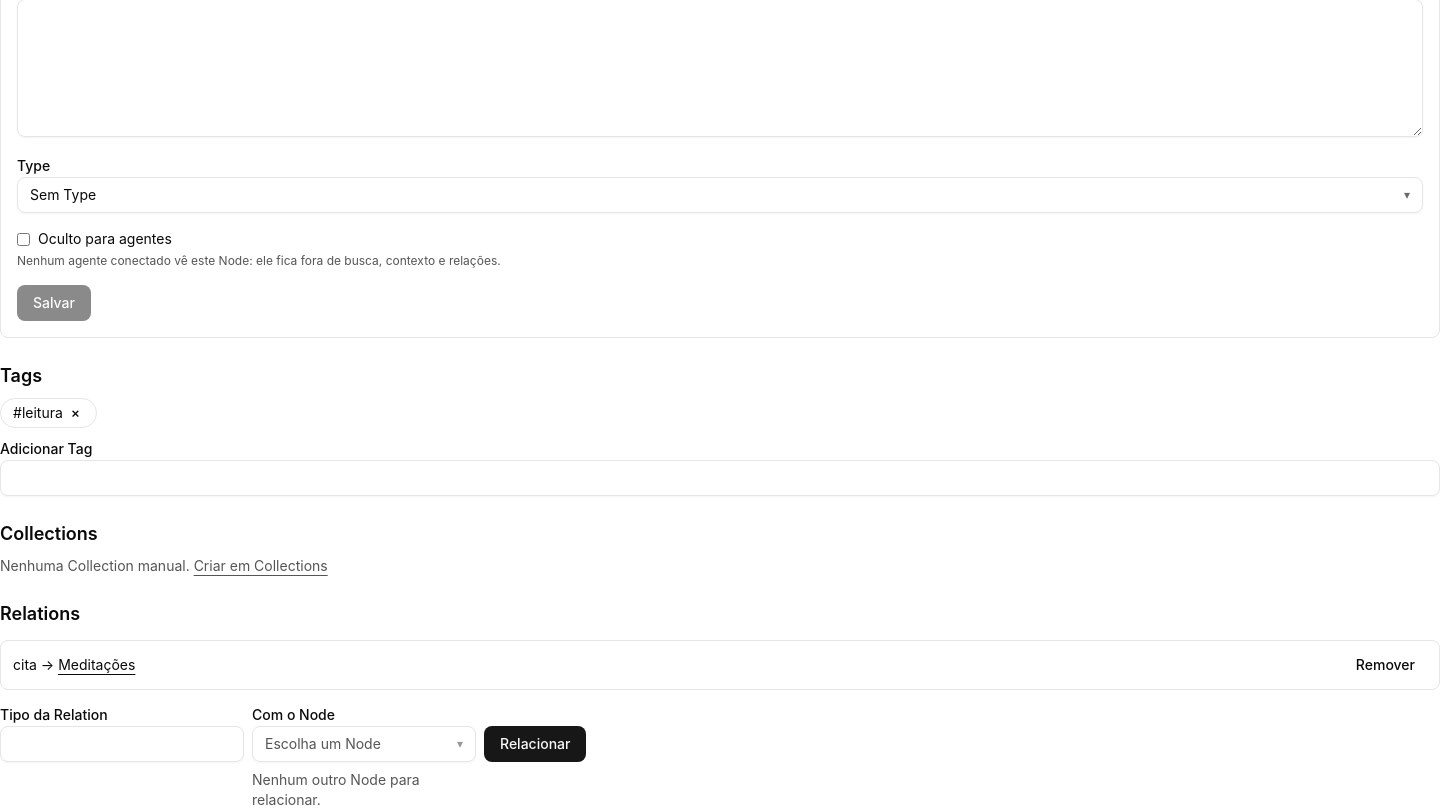
Test: embedded node inspector › tags › has no accessibility violations with the list open
(page scrolled)
Type "p" into the dropdown labelled "Adicionar Tag" at (720, 478), box x1=0 y1=460 x2=1439 y2=496
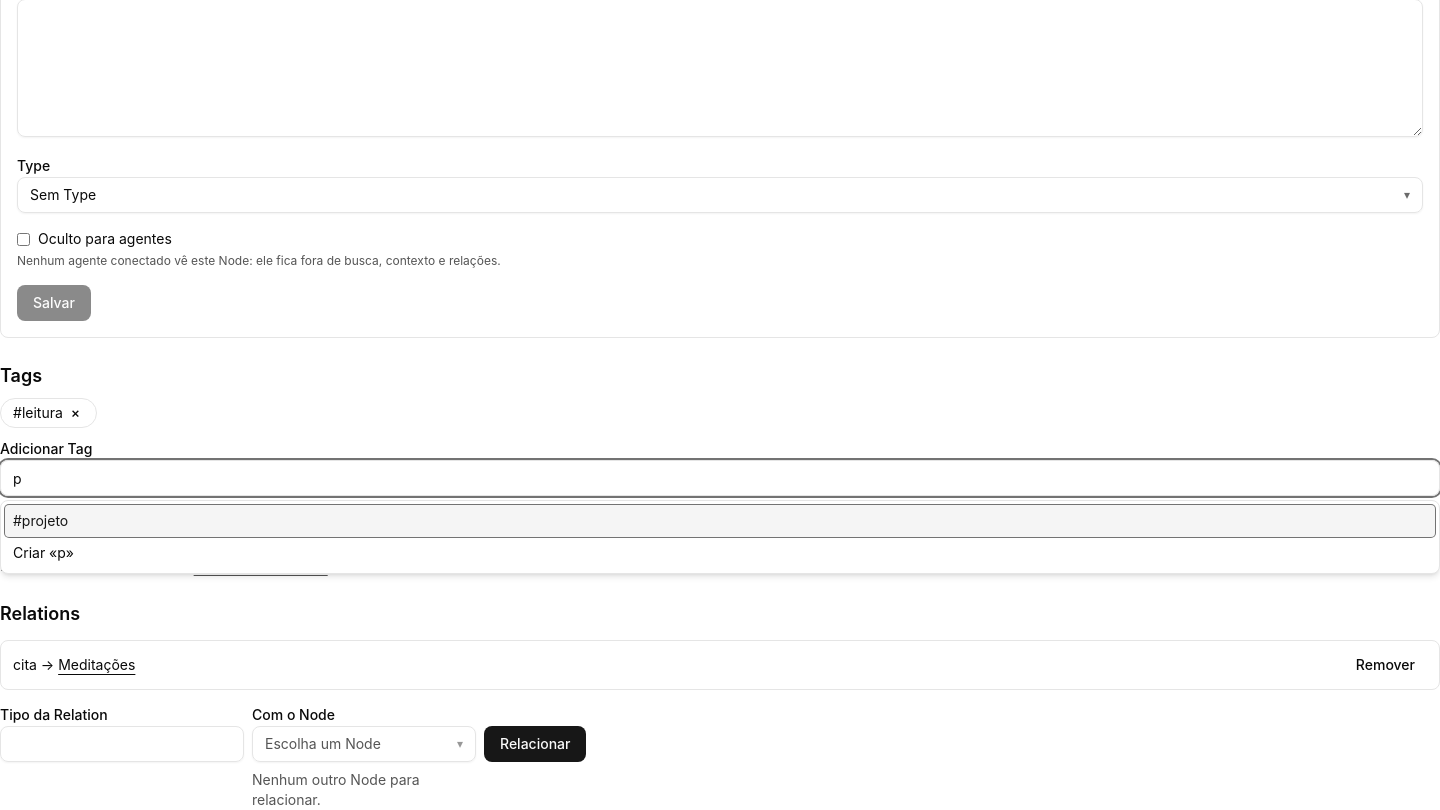
Expected: the option "#projeto" is shown, x1=5 y1=505 x2=1435 y2=537
